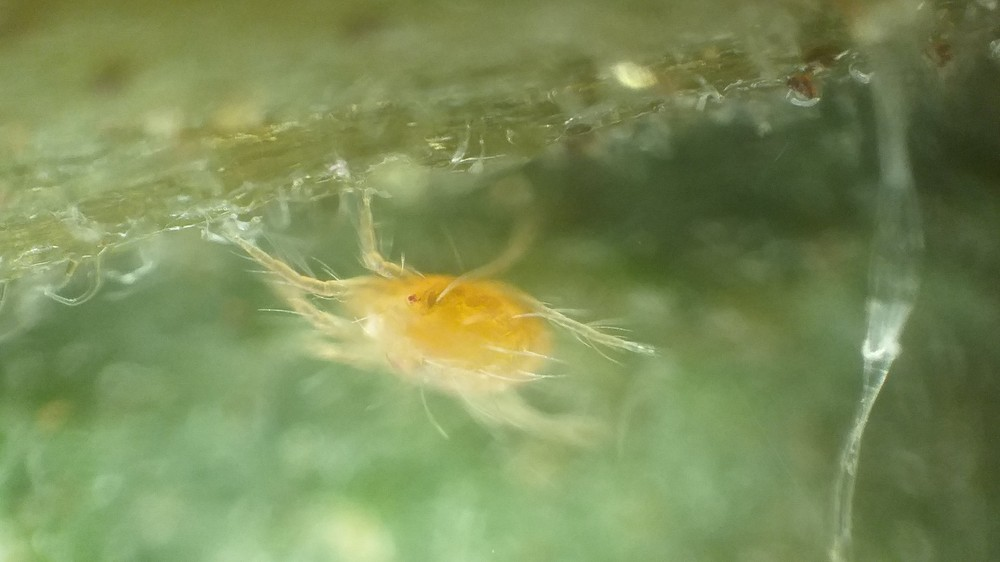Aracnido Rojo: (224, 172, 688, 463)
